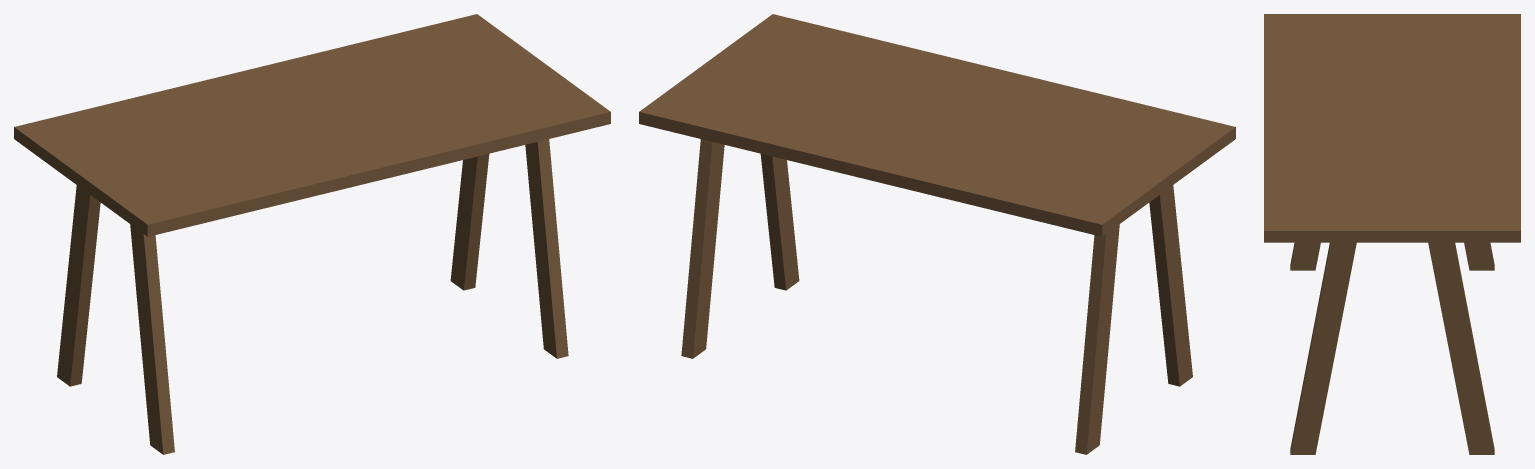
File: table.glb
3 renders of one model, left to right at view 1: azimuth 30°, elevation 25°; view 2: azimuth 150°, elevation 25°; view 3: azimuth 270°, elevation 25°, orthographic. The views are drawn at different scales.
Parts seen in each view (by area): view 1: Cube.004; view 2: Cube.004; view 3: Cube.004.
Boxes of the visible parts, x1,y1,x2,y2 form: Cube.004: (14,14,610,454); Cube.004: (639,14,1235,454); Cube.004: (1264,14,1520,454).
Size of the model in its own units: 2 by 1.02 by 1.
